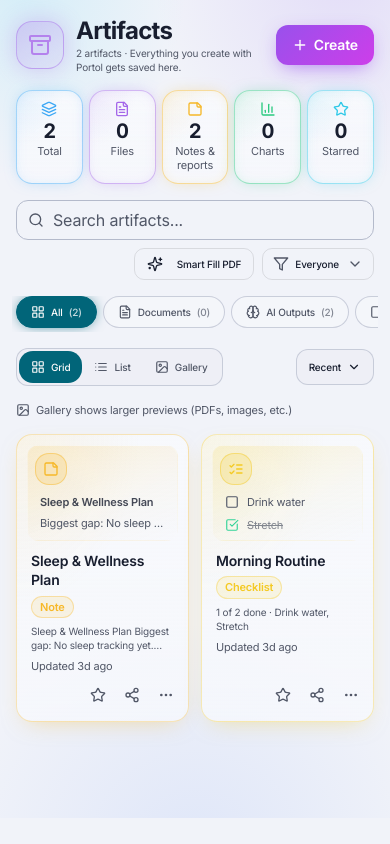
the Artifacts tab › opens an artifact in the full-screen viewer, and every card can be shared
Expected: the 1st button with test id "button-artifact-share" is shown, [116, 678, 148, 710]
Click the button with test id "artifact-card-md-1": {"x": 102, "y": 578} [16, 434, 189, 722]
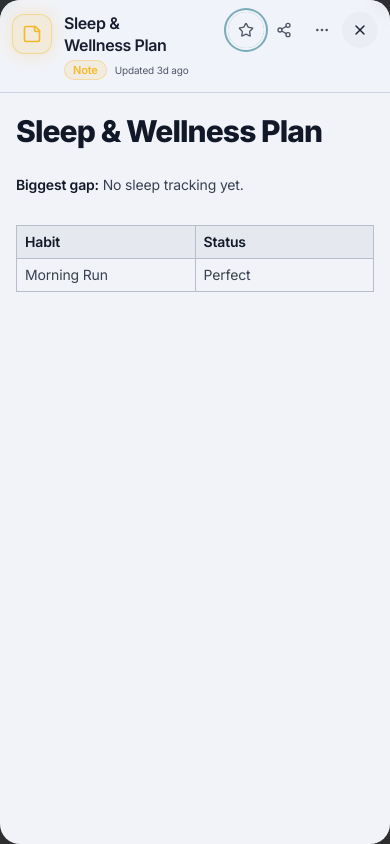
Expected: the element with test id "artifact-viewer-body" shows "No sleep tracking yet.", [99, 176, 244, 193]
